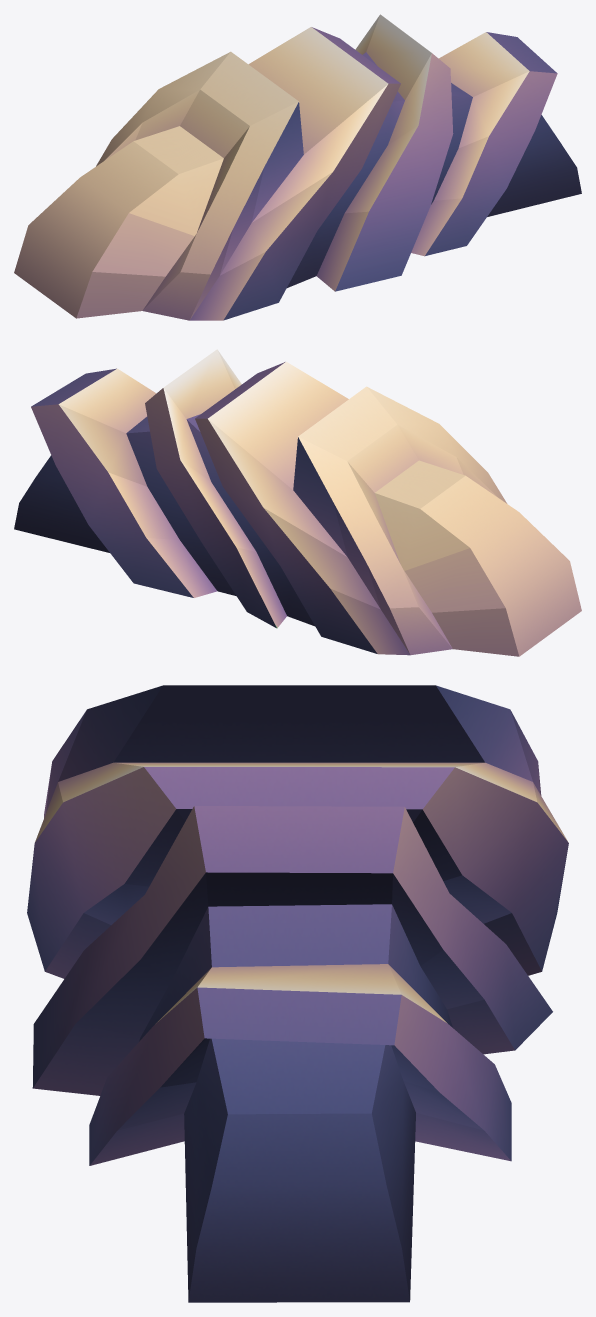
File: Rock_01_T1.FBX
3 renders of one model, top to bottom at view 1: azimuth 30°, elevation 25°; view 2: azimuth 150°, elevation 25°; view 3: azimuth 270°, elevation 25°, orthographic. The views are drawn at different scales.
Parts seen in each view (by area): view 1: Rock_01; view 2: Rock_01; view 3: Rock_01.
Part boxes in pixels (box(x1,y1,x2,y2)): Rock_01: box(14, 14, 581, 320); Rock_01: box(14, 349, 581, 656); Rock_01: box(27, 685, 568, 1302).
Size of the model in its own units: 3.98 by 1.32 by 1.84.
Materials: 1 (1 with a texture image).
